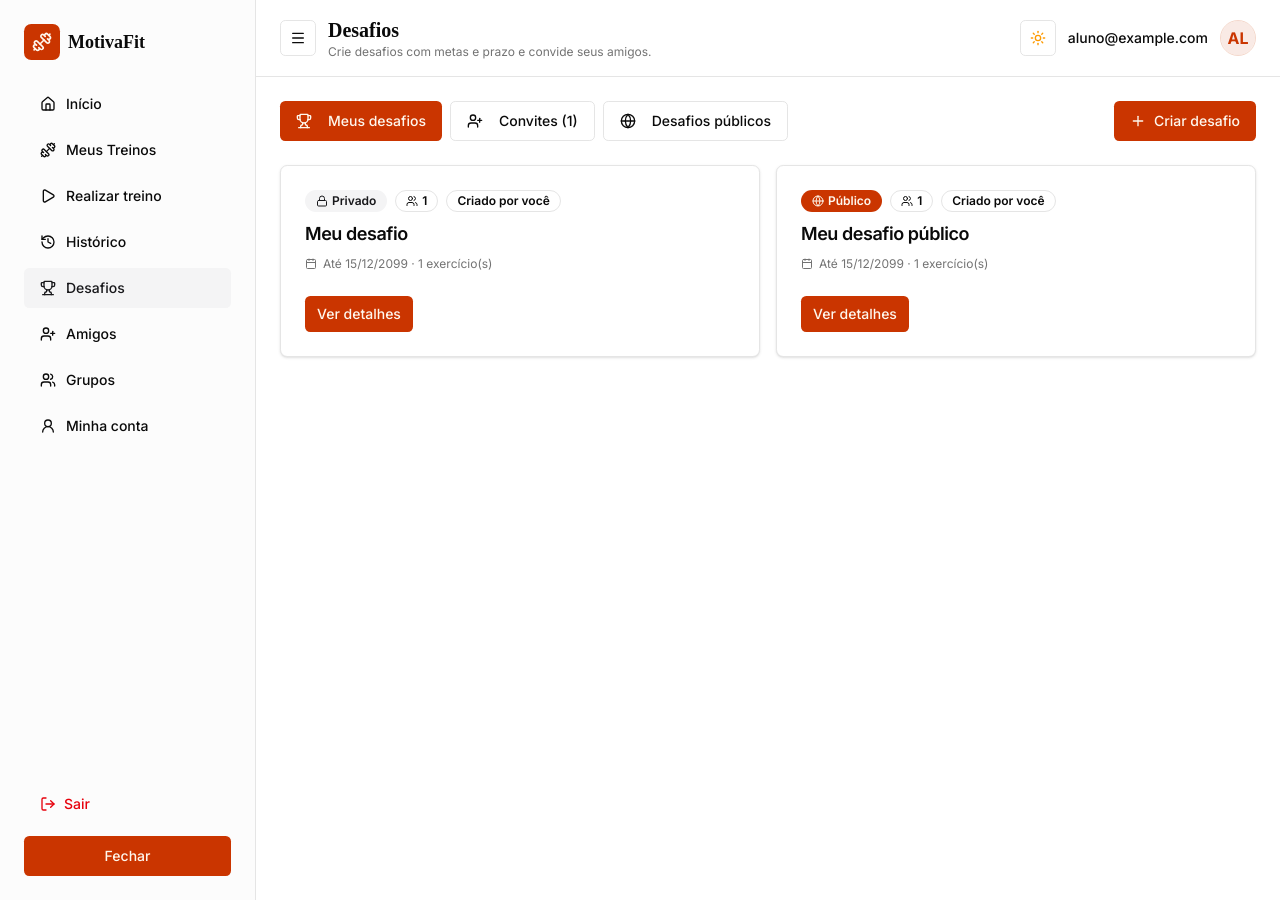
desafios integrados à API › separa meus desafios, convites e públicos e descarta os dados locais antigos
Expected: the heading "Meu desafio" is shown, left=305, top=223, right=408, bottom=244
Expected: the heading "Desafio aberto" is not shown
Click the tab "Convites (1)". click: [522, 121]
box: left=450, top=101, right=595, bottom=141
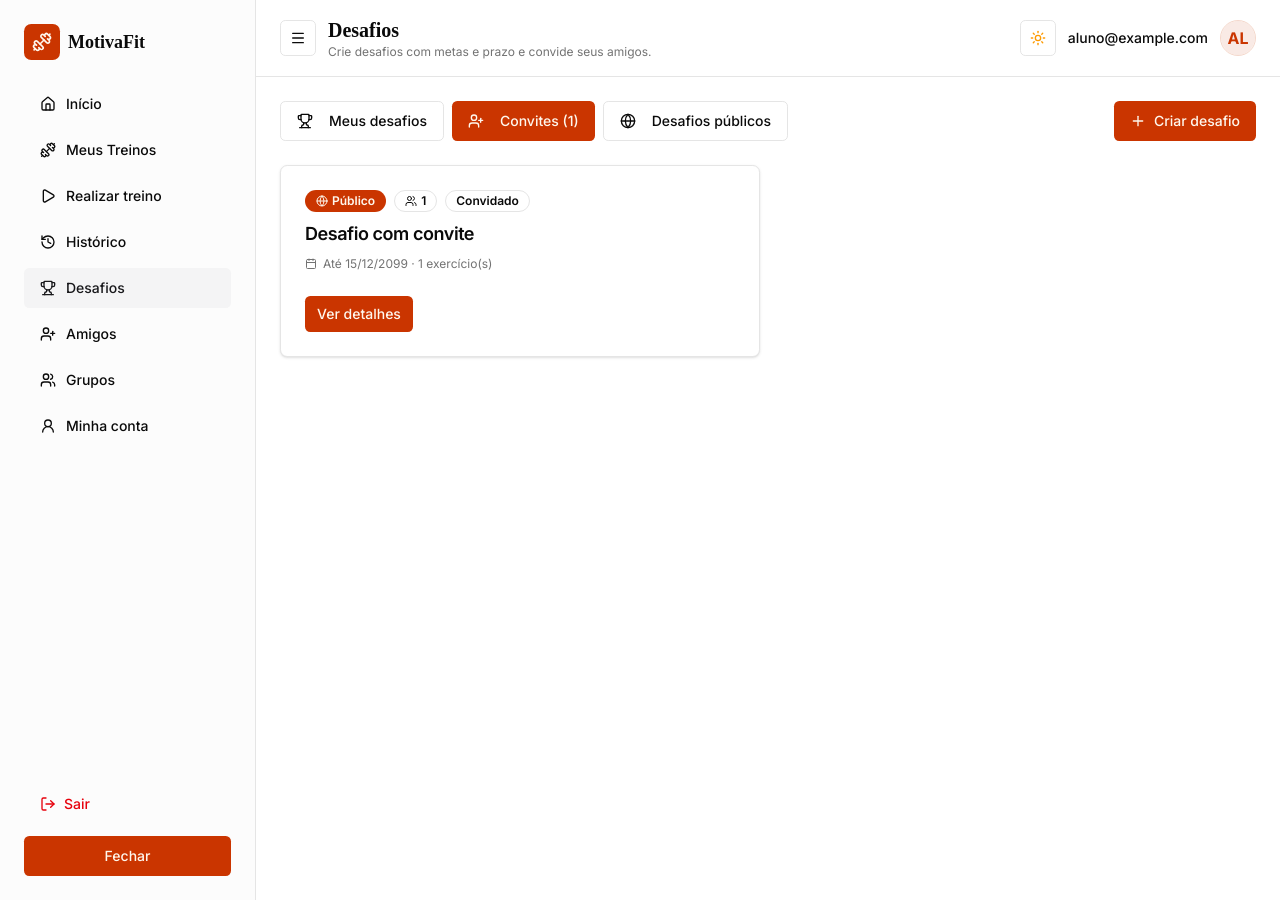
Expected: the heading "Desafio com convite" is shown, left=305, top=223, right=474, bottom=244
Click the tab "Desafios públicos". click: [695, 121]
box: left=603, top=101, right=788, bottom=141
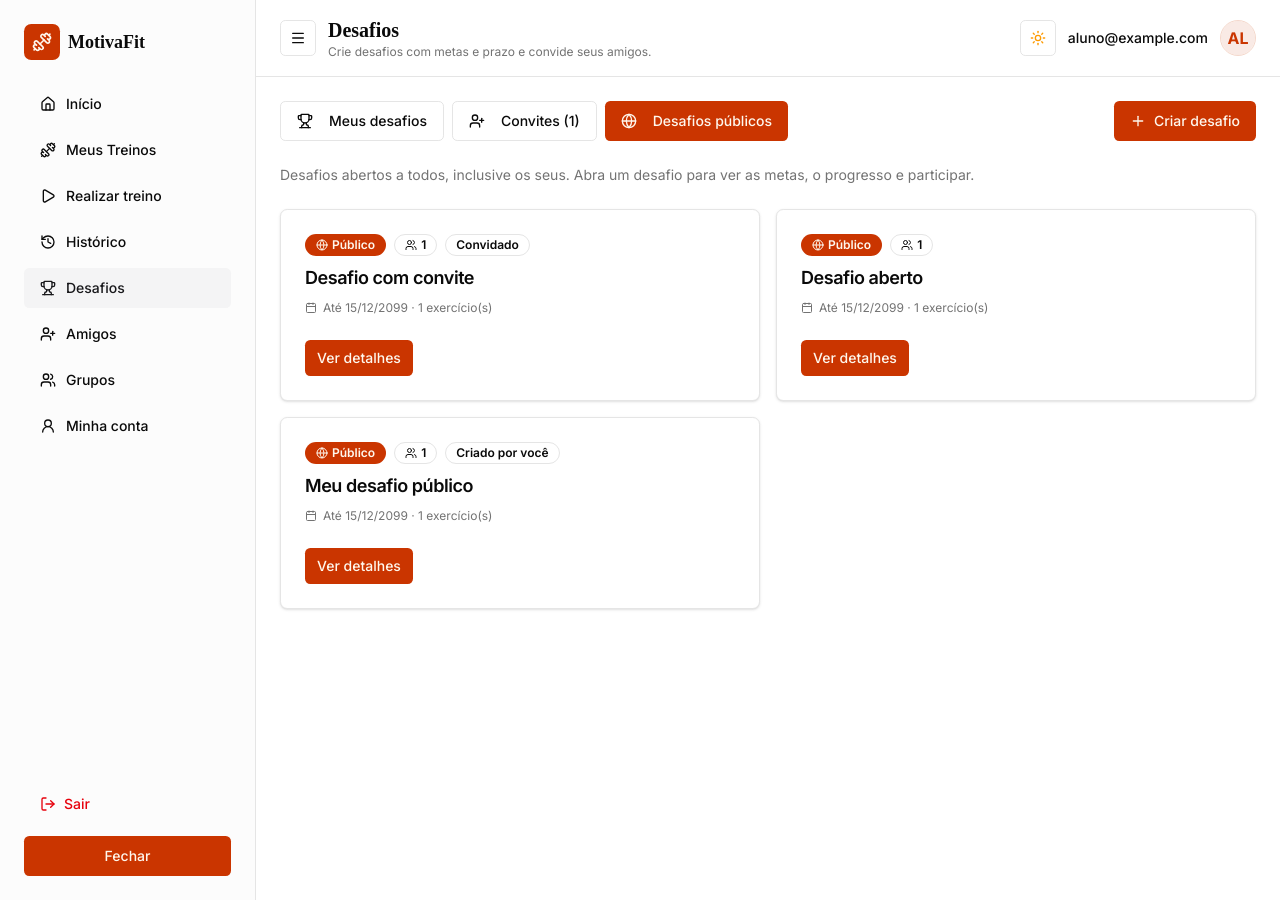
Expected: the heading "Desafio aberto" is shown, left=801, top=267, right=923, bottom=288
Expected: the text "Criado por você" is shown, left=445, top=442, right=560, bottom=464
Expected: the text "Desafios abertos a todos, inclusive os seus" is shown, left=280, top=166, right=974, bottom=183
